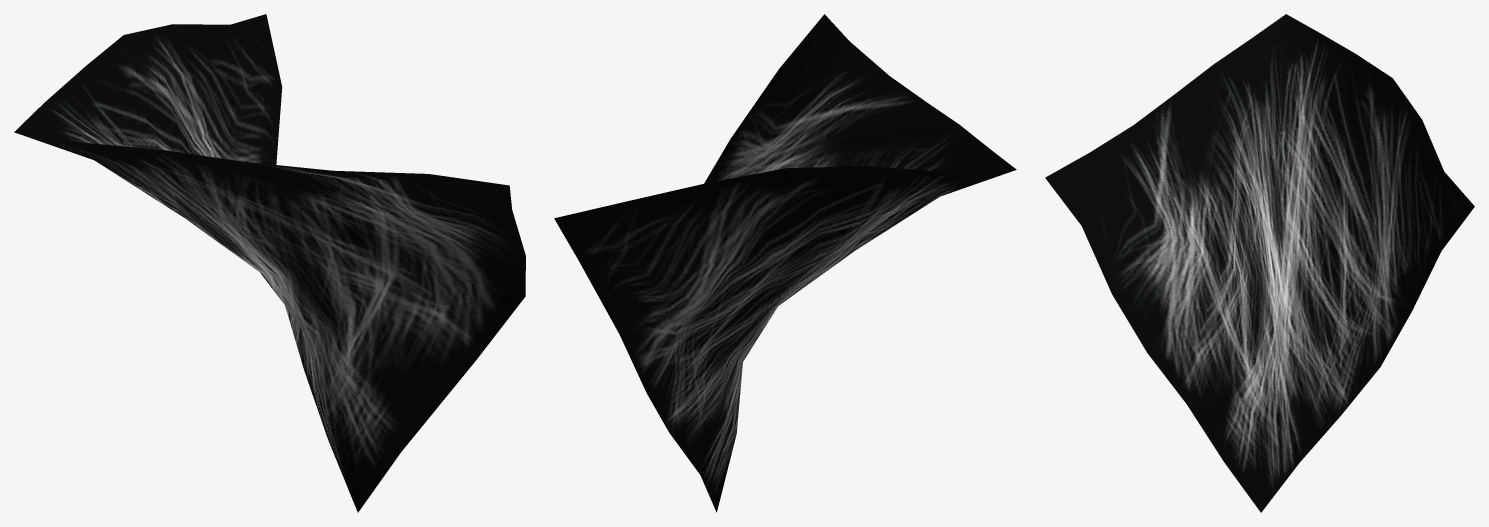
Rendered from SWORDLIGHT20_PS-AREA01_CORNERWEB16.fbx.
3 views of the same model, side by side, from view 1: azimuth 30°, elevation 25°; view 2: azimuth 150°, elevation 25°; view 3: azimuth 270°, elevation 25° (orthographic). The views are drawn at different scales.
Parts seen in each view (by area): view 1: SWORDLIGHT20_PS-AREA01_CORNERWEB16; view 2: SWORDLIGHT20_PS-AREA01_CORNERWEB16; view 3: SWORDLIGHT20_PS-AREA01_CORNERWEB16.
Boxes of the visible parts, <box> form: SWORDLIGHT20_PS-AREA01_CORNERWEB16: <box>14,14,525,512</box>; SWORDLIGHT20_PS-AREA01_CORNERWEB16: <box>554,14,1016,512</box>; SWORDLIGHT20_PS-AREA01_CORNERWEB16: <box>1045,14,1474,512</box>.
Bounding box in the file's own units: 53546 × 54790 × 57142.
Materials: 1 (1 with a texture image).
